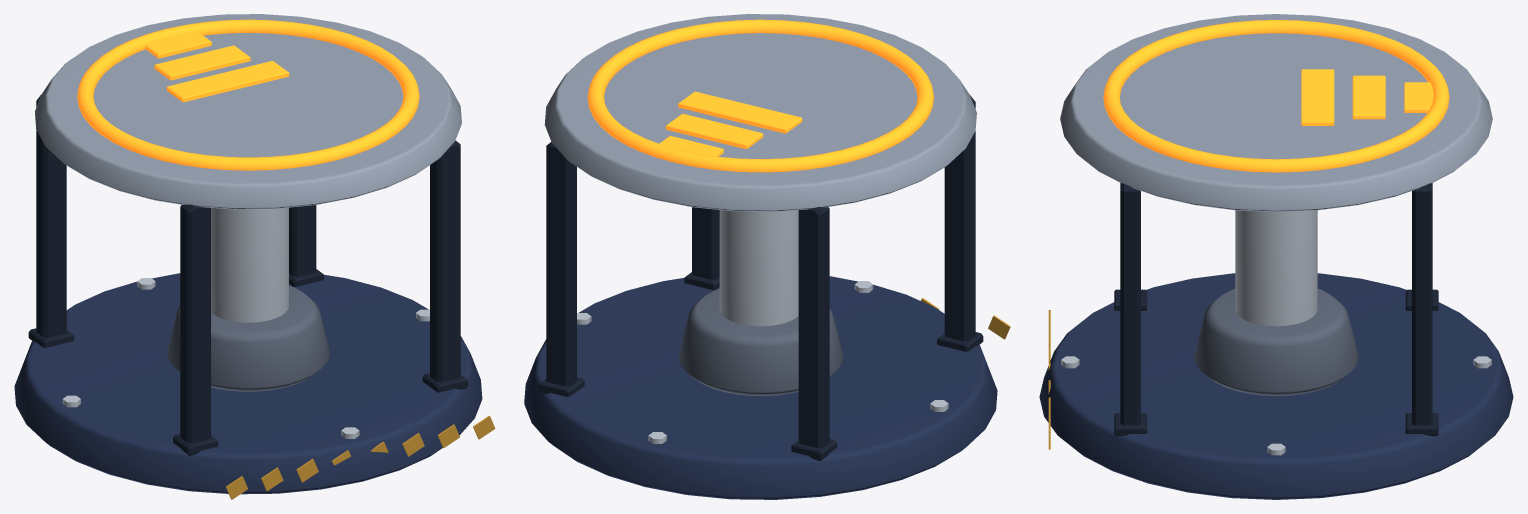
Rendered from shared_launcher_fired.glb.
The picture shows the model from 3 angles, left to right: view 1: azimuth 30°, elevation 25°; view 2: azimuth 150°, elevation 25°; view 3: azimuth 270°, elevation 25°; orthographic projection.
Visible parts, largest first — view 1: launcher_base, launcher_pad, launcher_ring, launcher_cylinder, launcher_piston, launcher_guide1, launcher_guide0, launcher_guide2, launcher_chevron0, launcher_hazard, launcher_guide3, launcher_chevron1 (+2 smaller); view 2: launcher_base, launcher_pad, launcher_ring, launcher_cylinder, launcher_piston, launcher_guide2, launcher_guide3, launcher_guide1, launcher_chevron0, launcher_guide0, launcher_chevron1, launcher_bolts (+2 smaller); view 3: launcher_base, launcher_pad, launcher_cylinder, launcher_ring, launcher_piston, launcher_guide0, launcher_guide3, launcher_chevron0, launcher_chevron1, launcher_chevron2, launcher_bolts.
Part boxes in pixels (x1,y1,x2,y2): launcher_base: (14, 273, 482, 494); launcher_pad: (35, 14, 461, 209); launcher_ring: (77, 19, 419, 170); launcher_cylinder: (167, 285, 329, 391); launcher_piston: (211, 207, 288, 322); launcher_guide1: (180, 204, 210, 442); launcher_guide0: (430, 140, 460, 382); launcher_guide2: (36, 94, 66, 337); launcher_chevron0: (166, 60, 289, 102); launcher_hazard: (226, 415, 495, 499); launcher_guide3: (289, 205, 316, 276); launcher_chevron1: (154, 45, 250, 80); launcher_base: (524, 276, 997, 499); launcher_pad: (544, 14, 976, 211); launcher_ring: (587, 19, 933, 172); launcher_cylinder: (678, 288, 842, 395); launcher_piston: (719, 210, 798, 326); launcher_guide2: (798, 207, 829, 447); launcher_guide3: (546, 142, 576, 386); launcher_guide1: (944, 95, 975, 341); launcher_chevron0: (678, 91, 802, 133); launcher_guide0: (692, 207, 719, 279); launcher_chevron1: (665, 113, 763, 148); launcher_bolts: (577, 281, 948, 443); launcher_base: (1039, 273, 1513, 499); launcher_pad: (1060, 14, 1492, 211); launcher_cylinder: (1194, 289, 1358, 395); launcher_ring: (1103, 20, 1449, 172); launcher_piston: (1235, 210, 1317, 326); launcher_guide0: (1120, 183, 1140, 425); launcher_guide3: (1412, 183, 1432, 425); launcher_chevron0: (1301, 69, 1334, 125); launcher_chevron1: (1352, 75, 1385, 119); launcher_chevron2: (1404, 82, 1433, 112); launcher_bolts: (1061, 356, 1491, 455).
Size of what is drawn, in the model's own units: 2.3 by 1.67 by 2.3.
